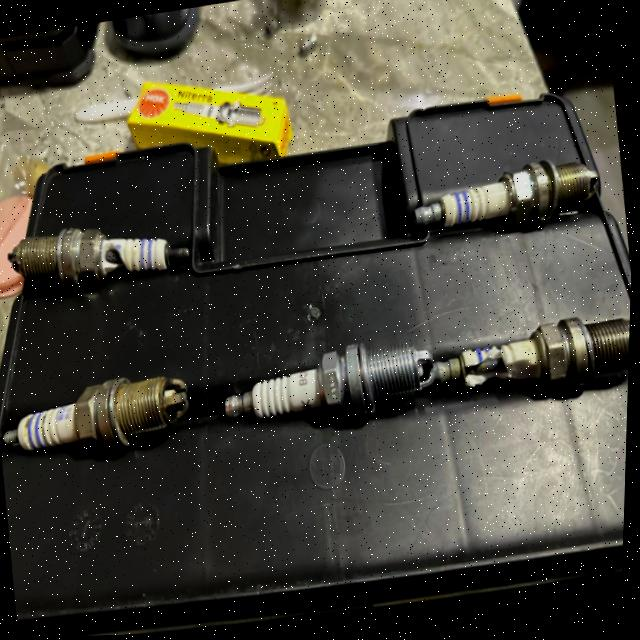damaged_spark-plug: (0, 195, 200, 307), (425, 309, 632, 414)
spark-plug: (210, 325, 442, 449), (0, 348, 204, 473), (400, 134, 618, 248)
